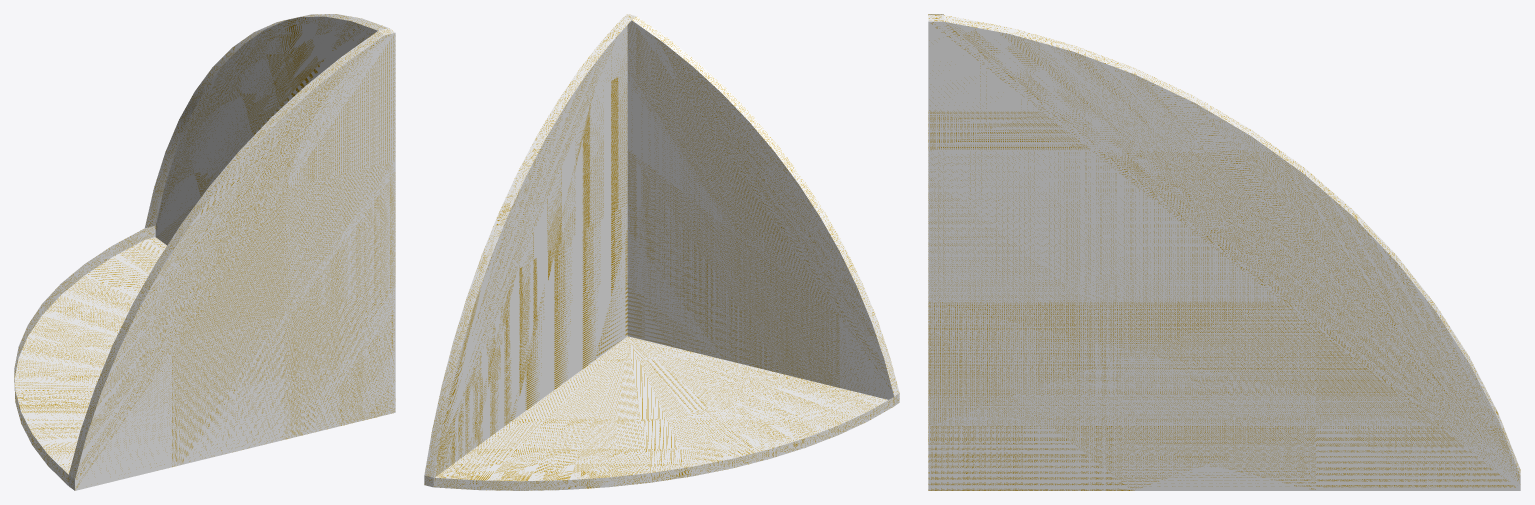
Rendered from original-32.obj.
The picture shows the model from 3 angles, left to right: view 1: azimuth 30°, elevation 25°; view 2: azimuth 150°, elevation 25°; view 3: azimuth 270°, elevation 25°; orthographic projection. The views are drawn at different scales.
Parts seen in each view (by area): view 1: mesh33/mesh33-geometry/material_9/component_1#mesh33-geometry; view 2: mesh33/mesh33-geometry/material_9/component_1#mesh33-geometry; view 3: mesh33/mesh33-geometry/material_9/component_1#mesh33-geometry.
Boxes of the visible parts, x1,y1,x2,y2 form: mesh33/mesh33-geometry/material_9/component_1#mesh33-geometry: [14, 14, 395, 490]; mesh33/mesh33-geometry/material_9/component_1#mesh33-geometry: [424, 14, 899, 490]; mesh33/mesh33-geometry/material_9/component_1#mesh33-geometry: [928, 14, 1520, 490].
Bounding box in the file's own units: 0.1409 × 0.1596 × 0.1827.
